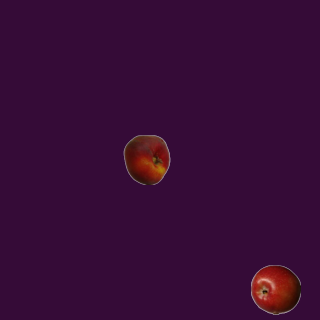Apple Braeburn: (250, 264, 300, 314)
Nectarine Flat: (121, 134, 171, 184)
